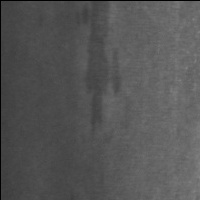inclusion: (77, 2, 124, 132)
